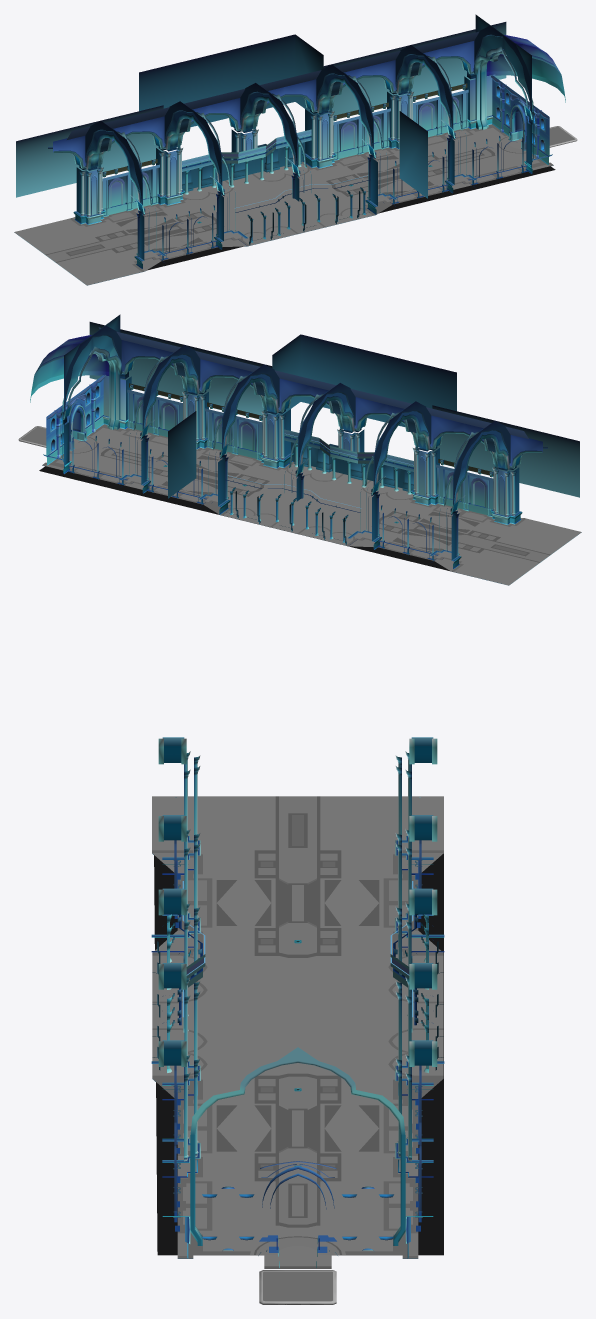
Rendered from 07GasRoom.gltf.
3 views of the same model, one above another, from view 1: azimuth 30°, elevation 25°; view 2: azimuth 150°, elevation 25°; view 3: azimuth 270°, elevation 25° (orthographic). The views are drawn at different scales.
Parts seen in each view (by area): view 1: stg070_w30_Mesh_0000, stg070_o30_Mesh_0035, stg070_w30_Mesh_0001, stg070_o30_Mesh_0039, stg070_o30_Mesh_0047, stg070_o30_Mesh_0059, stg070_o30_Mesh_0044, stg070_o30_Mesh_0056, stg070_g30_Mesh_0000, stg070_o30_Mesh_0017, stg070_o30_Mesh_0061, stg070_o30_Mesh_0060 (+5 smaller); view 2: stg070_w30_Mesh_0000, stg070_o30_Mesh_0035, stg070_w30_Mesh_0001, stg070_o30_Mesh_0039, stg070_o30_Mesh_0047, stg070_o30_Mesh_0059, stg070_o30_Mesh_0044, stg070_o30_Mesh_0056, stg070_g30_Mesh_0000, stg070_o30_Mesh_0017, stg070_o30_Mesh_0061, stg070_o30_Mesh_0048 (+5 smaller); view 3: stg070_w30_Mesh_0000, stg070_g30_Mesh_0000, stg070_w30_Mesh_0001, stg070_o30_Mesh_0047, stg070_o30_Mesh_0051, stg070_o30_Mesh_0056, stg070_o30_Mesh_0059, stg070_o30_Mesh_0039, stg070_k30_Mesh_0000, stg070_k30_Mesh_0001.
Part boxes in pixels (<box>): stg070_w30_Mesh_0000: <box>14,124,553,285</box>; stg070_o30_Mesh_0035: <box>16,22,506,242</box>; stg070_w30_Mesh_0001: <box>48,27,565,261</box>; stg070_o30_Mesh_0039: <box>53,14,533,205</box>; stg070_o30_Mesh_0047: <box>73,53,560,271</box>; stg070_o30_Mesh_0059: <box>48,46,539,214</box>; stg070_o30_Mesh_0044: <box>85,25,531,223</box>; stg070_o30_Mesh_0056: <box>75,94,552,261</box>; stg070_g30_Mesh_0000: <box>73,166,555,270</box>; stg070_o30_Mesh_0017: <box>92,75,548,215</box>; stg070_o30_Mesh_0061: <box>75,118,548,267</box>; stg070_o30_Mesh_0060: <box>495,82,545,153</box>; stg070_w30_Mesh_0000: <box>42,424,581,585</box>; stg070_o30_Mesh_0035: <box>89,322,579,542</box>; stg070_w30_Mesh_0001: <box>30,327,547,561</box>; stg070_o30_Mesh_0039: <box>62,314,542,505</box>; stg070_o30_Mesh_0047: <box>35,353,522,568</box>; stg070_o30_Mesh_0059: <box>56,346,547,514</box>; stg070_o30_Mesh_0044: <box>64,326,510,523</box>; stg070_o30_Mesh_0056: <box>43,394,520,561</box>; stg070_g30_Mesh_0000: <box>39,466,467,575</box>; stg070_o30_Mesh_0017: <box>47,375,503,515</box>; stg070_o30_Mesh_0061: <box>47,418,520,567</box>; stg070_o30_Mesh_0048: <box>56,394,515,557</box>; stg070_w30_Mesh_0000: <box>152,796,443,1268</box>; stg070_g30_Mesh_0000: <box>154,853,443,1255</box>; stg070_w30_Mesh_0001: <box>167,760,428,1252</box>; stg070_o30_Mesh_0047: <box>151,751,444,1267</box>; stg070_o30_Mesh_0051: <box>152,737,433,1258</box>; stg070_o30_Mesh_0056: <box>151,836,444,1243</box>; stg070_o30_Mesh_0059: <box>158,738,437,1066</box>; stg070_o30_Mesh_0039: <box>190,1047,405,1245</box>; stg070_k30_Mesh_0000: <box>263,1271,332,1301</box>; stg070_k30_Mesh_0001: <box>263,1271,332,1301</box>.
Size of the model in its own units: 242 by 51.27 by 107.
